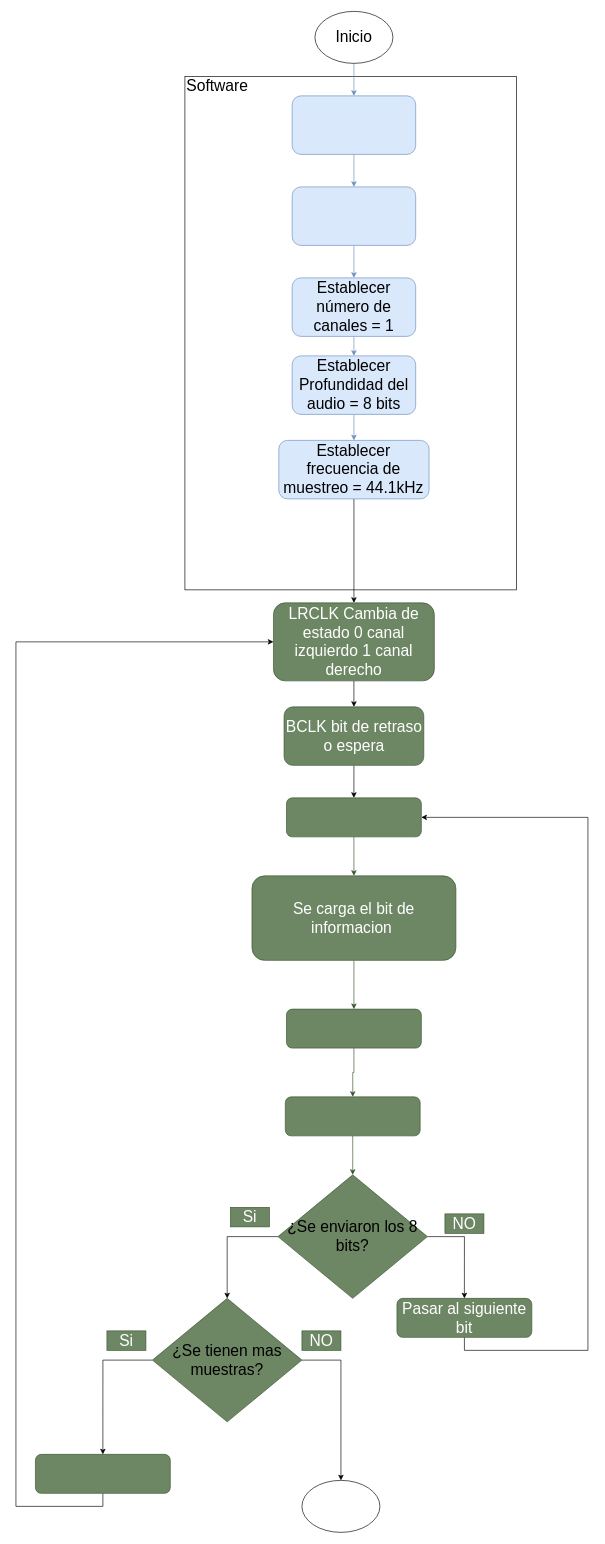
The diagram is 605 pixels wide and 1544 high, and some of its shapes have lost their labels. The shapes that lost their labels are listed below. From the top down, each one's centre as x and y in pixels, then its label:
At pixel 354 124: "Se carga el archivo en formato WAV".
At pixel 354 215: "Tomar datos del encabezado".
At pixel 353 817: "BCLK 1 a 0".
At pixel 353 1028: "BCLK 0 a 1".
At pixel 352 1116: "El receptor lee o captura el bit".
At pixel 102 1473: "Pasar a la siguiente muestra".
At pixel 340 1506: "Fin".
